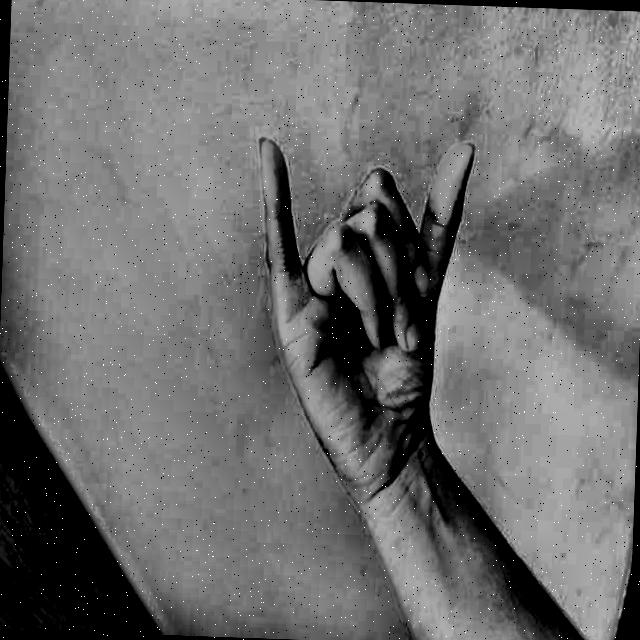Oi: (219, 98, 506, 504)
